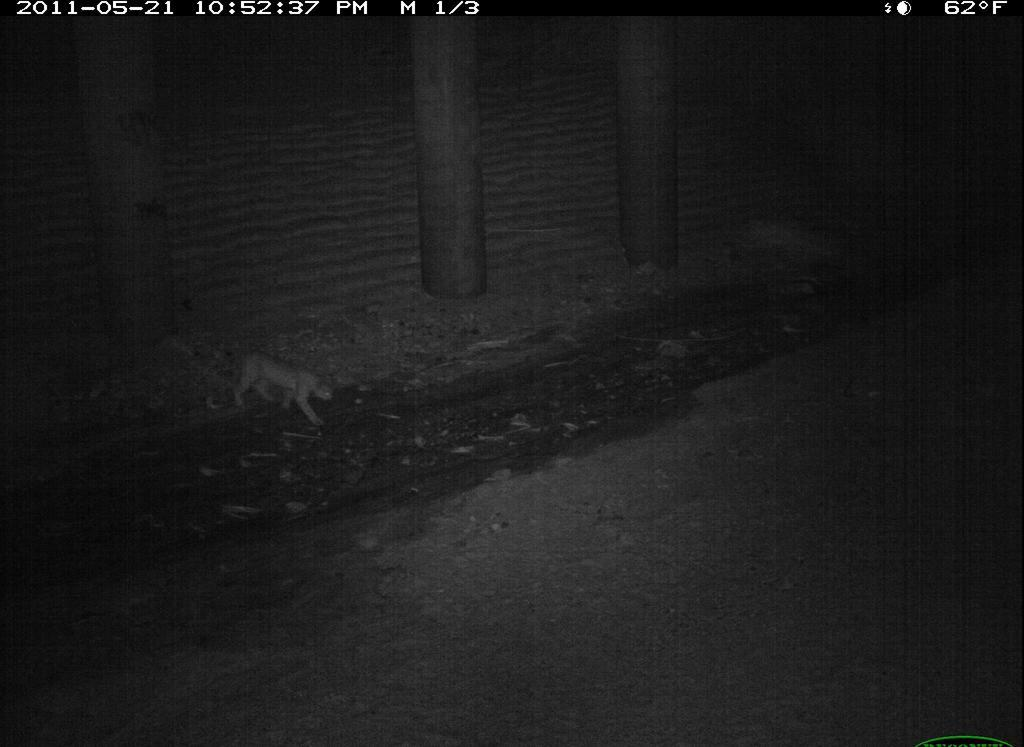bobcat: (461, 691, 673, 747)
